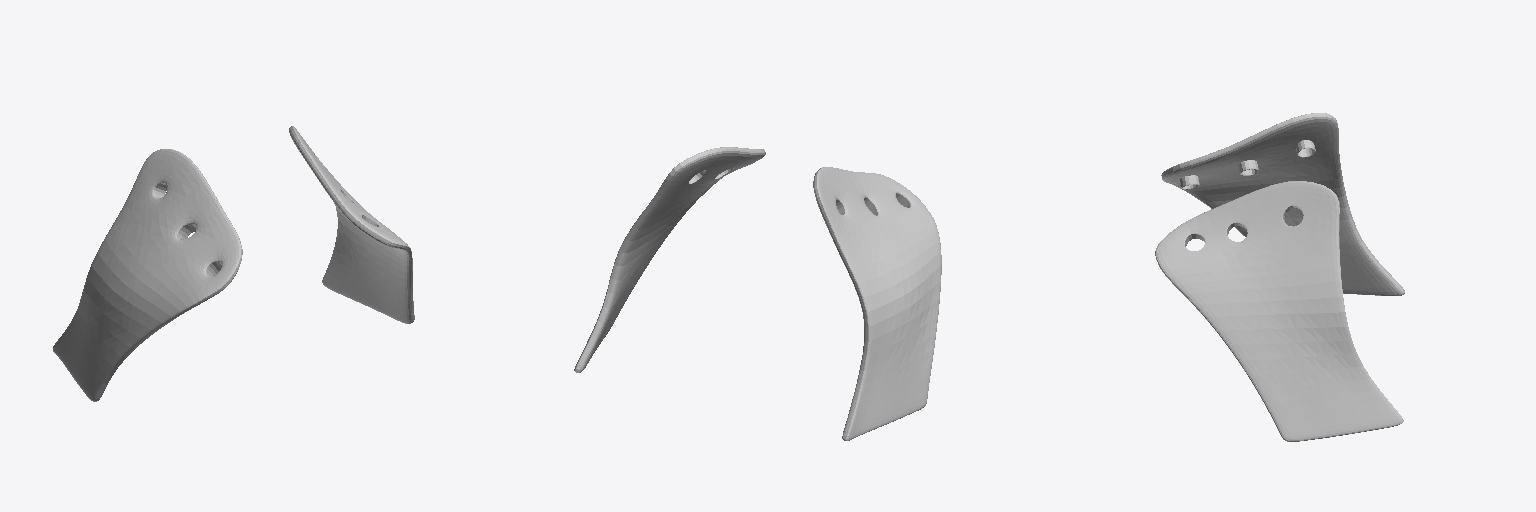
Rendered from side_cover.obj.
3 renders of one model, left to right at view 1: azimuth 30°, elevation 25°; view 2: azimuth 150°, elevation 25°; view 3: azimuth 270°, elevation 25°, orthographic.
Visible parts, largest first — view 1: side_cover_Side_cover.001; view 2: side_cover_Side_cover.001; view 3: side_cover_Side_cover.001.
Part boxes in pixels (x1,y1,x2,y2): side_cover_Side_cover.001: (53,126,414,401); side_cover_Side_cover.001: (574,147,941,440); side_cover_Side_cover.001: (1155,113,1404,441).
Bounding box in the file's own units: 2.44 × 1.6 × 1.64.